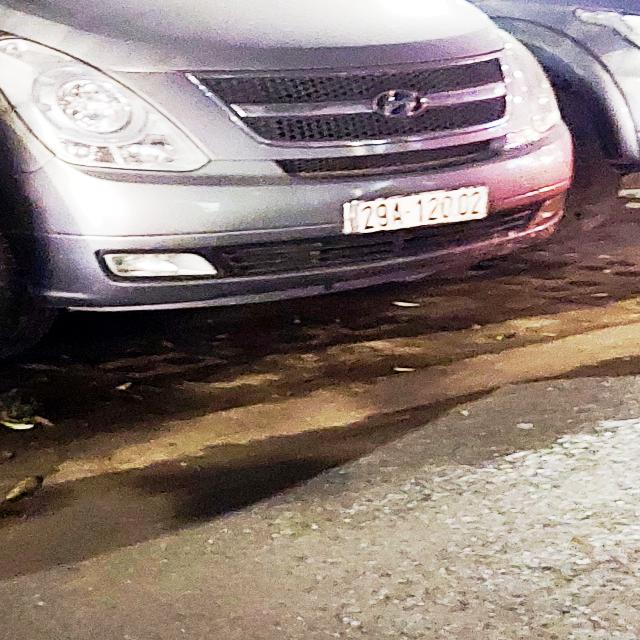license_plate: (352, 182, 491, 234)
